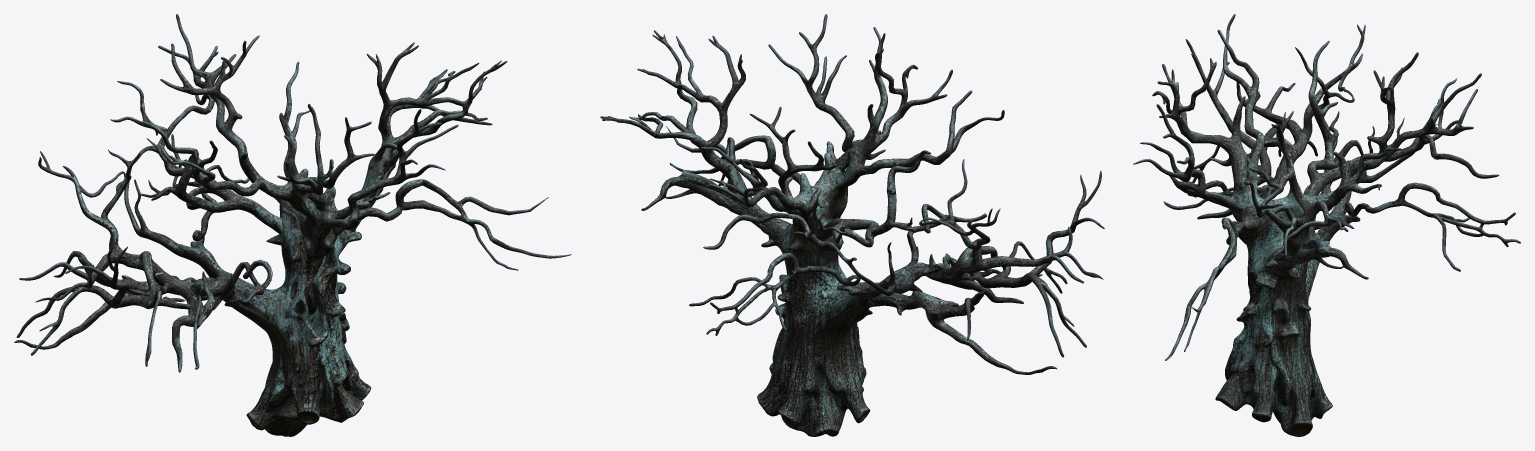
The model's file is tripo_convert_7e0ca4cf-67c5-40fb-a15f-6249f3776f28.fbx.
The picture shows the model from 3 angles, left to right: view 1: azimuth 30°, elevation 25°; view 2: azimuth 150°, elevation 25°; view 3: azimuth 270°, elevation 25°; orthographic projection. The views are drawn at different scales.
Visible parts, largest first — view 1: tripo_part_0, tripo_part_1, tripo_part_2, tripo_part_5, tripo_part_3, tripo_part_6, tripo_part_4, tripo_part_8, tripo_part_7, tripo_part_9; view 2: tripo_part_0, tripo_part_1, tripo_part_2, tripo_part_3, tripo_part_6, tripo_part_5, tripo_part_7, tripo_part_8, tripo_part_4, tripo_part_9; view 3: tripo_part_0, tripo_part_1, tripo_part_2, tripo_part_5, tripo_part_6, tripo_part_8, tripo_part_4, tripo_part_7, tripo_part_3.
Boxes of the visible parts, x1=… form: tripo_part_0: x1=177, y1=204, x2=371, y2=436; tripo_part_1: x1=158, y1=14, x2=458, y2=258; tripo_part_2: x1=16, y1=151, x2=191, y2=366; tripo_part_5: x1=108, y1=81, x2=282, y2=255; tripo_part_3: x1=14, y1=251, x2=235, y2=372; tripo_part_6: x1=366, y1=42, x2=507, y2=173; tripo_part_4: x1=332, y1=179, x2=571, y2=270; tripo_part_8: x1=140, y1=134, x2=249, y2=241; tripo_part_7: x1=337, y1=149, x2=398, y2=240; tripo_part_9: x1=226, y1=259, x2=272, y2=304; tripo_part_0: x1=757, y1=202, x2=883, y2=436; tripo_part_1: x1=700, y1=14, x2=1004, y2=226; tripo_part_2: x1=919, y1=159, x2=1104, y2=357; tripo_part_3: x1=870, y1=246, x2=1056, y2=374; tripo_part_6: x1=600, y1=30, x2=745, y2=180; tripo_part_5: x1=703, y1=150, x2=931, y2=295; tripo_part_7: x1=641, y1=164, x2=791, y2=239; tripo_part_8: x1=689, y1=253, x2=860, y2=335; tripo_part_4: x1=666, y1=126, x2=817, y2=187; tripo_part_9: x1=907, y1=204, x2=986, y2=260; tripo_part_0: x1=1215, y1=198, x2=1360, y2=436; tripo_part_1: x1=1133, y1=14, x2=1481, y2=221; tripo_part_2: x1=1185, y1=24, x2=1365, y2=185; tripo_part_5: x1=1305, y1=41, x2=1499, y2=202; tripo_part_6: x1=1243, y1=111, x2=1354, y2=256; tripo_part_8: x1=1344, y1=182, x2=1520, y2=271; tripo_part_4: x1=1165, y1=206, x2=1262, y2=360; tripo_part_7: x1=1268, y1=232, x2=1368, y2=279; tripo_part_3: x1=1163, y1=138, x2=1363, y2=234.
Bounding box in the file's own units: 98.38 × 69.1 × 71.35.
